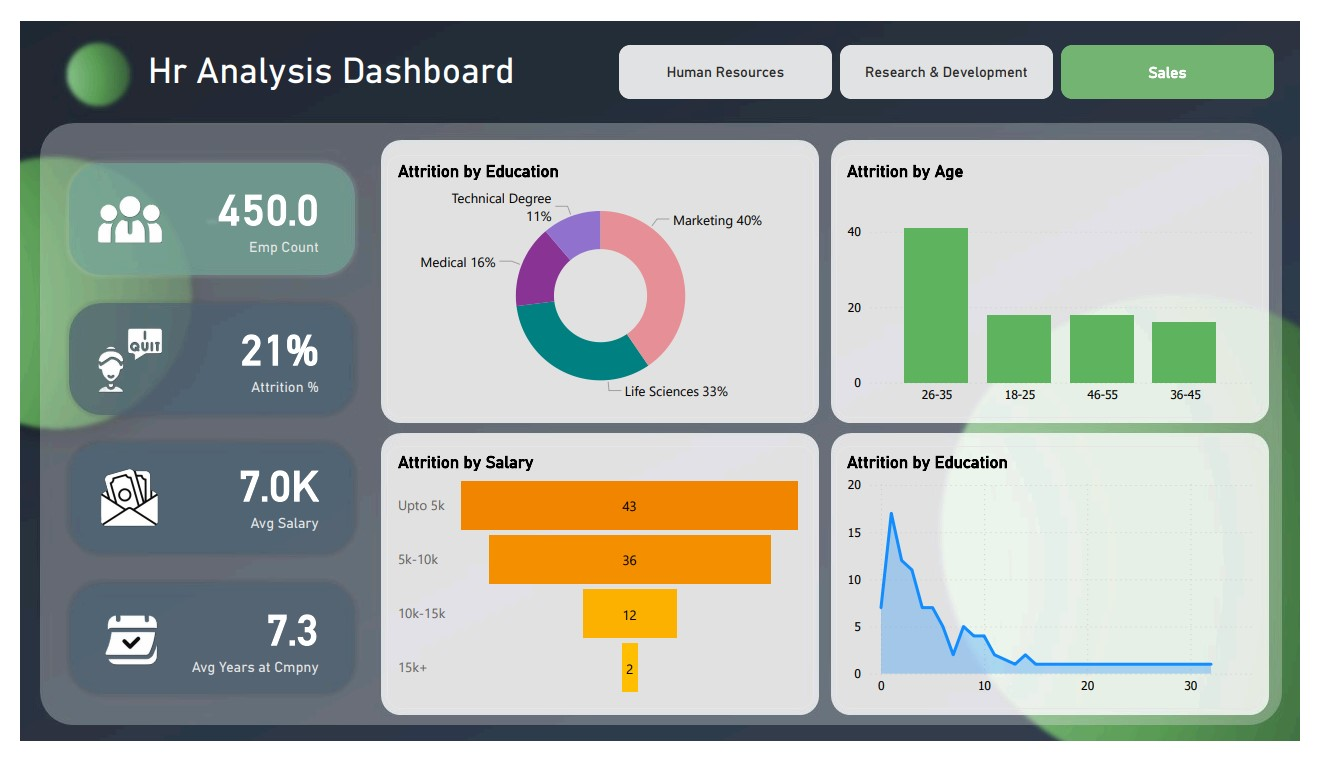

What the dashboard file says about the page in this screenshot:
{"tool":"powerbi","page":{"name":"Home","canvas":[1280,720],"ordinal":0},"visuals":[{"type":"shape","box":[128.2,14.1,376.7,68.8],"z":0},{"type":"cardVisual","fields":{"Data":["CountNonNull(HR_Analytics.EmpID)"]},"box":[63.4,147.2,253.2,103.9],"z":1000},{"type":"cardVisual","fields":{"Data":["Measure.Attrition %"]},"box":[63.4,287.1,253.2,94.5],"z":2000},{"type":"cardVisual","fields":{"Data":["Avg(HR_Analytics.MonthlyIncome)"]},"box":[63.4,423.1,253.2,94.5],"z":3000},{"type":"cardVisual","fields":{"Data":["Avg(HR_Analytics.YearsAtCompany)"]},"box":[63.4,566.7,253.2,94.5],"z":4000},{"type":"donutChart","title":"Attrition by Education","fields":{"Category":["HR_Analytics.EducationField"],"Y":["Measure.Attrition"]},"box":[366.6,134.2,427.1,262.7],"z":5000},{"type":"columnChart","title":"Attrition by Age","fields":{"Y":["Measure.Attrition"],"Category":["HR_Analytics.AgeGroup"]},"box":[816.4,134.2,427.1,262.7],"z":6000},{"type":"areaChart","title":"Attrition by Education","fields":{"Y":["Measure.Attrition"],"Category":["HR_Analytics.YearsAtCompany"]},"box":[816.4,425.2,427.1,262.7],"z":7000},{"type":"funnel","title":"Attrition by Salary","fields":{"Category":["HR_Analytics.SalarySlab"],"Y":["Measure.Attrition"]},"box":[366.6,425.2,427.1,262.7],"z":8000},{"type":"advancedSlicerVisual","fields":{"Values":["HR_Analytics.Department"]},"box":[593.9,18.8,667.4,64.1],"z":9000},{"type":"image","box":[72.3,165.2,75,75],"z":10000},{"type":"image","box":[71.9,301.7,75,75],"z":11000},{"type":"image","box":[72.3,579.4,80,80],"z":12000},{"type":"image","box":[71.9,439.2,75,75],"z":13000}]}

Visuals, with their boxes in screenshot pixels (x1, y1, x2, y2), scaled from the page's 1280x720 canvas onto the 1320x760 screenshot:
shape: <bbox>132, 15, 521, 88</bbox>
cardVisual - CountNonNull(HR_Analytics.EmpID): <bbox>65, 155, 326, 265</bbox>
cardVisual - Measure.Attrition %: <bbox>65, 303, 326, 403</bbox>
cardVisual - Avg(HR_Analytics.MonthlyIncome): <bbox>65, 447, 326, 546</bbox>
cardVisual - Avg(HR_Analytics.YearsAtCompany): <bbox>65, 598, 326, 698</bbox>
"Attrition by Education" donutChart: <bbox>378, 142, 819, 419</bbox>
"Attrition by Age" columnChart: <bbox>842, 142, 1282, 419</bbox>
"Attrition by Education" areaChart: <bbox>842, 449, 1282, 726</bbox>
"Attrition by Salary" funnel: <bbox>378, 449, 819, 726</bbox>
advancedSlicerVisual - HR_Analytics.Department: <bbox>612, 20, 1301, 88</bbox>
image: <bbox>75, 174, 152, 254</bbox>
image: <bbox>74, 318, 151, 398</bbox>
image: <bbox>75, 612, 157, 696</bbox>
image: <bbox>74, 464, 151, 543</bbox>
